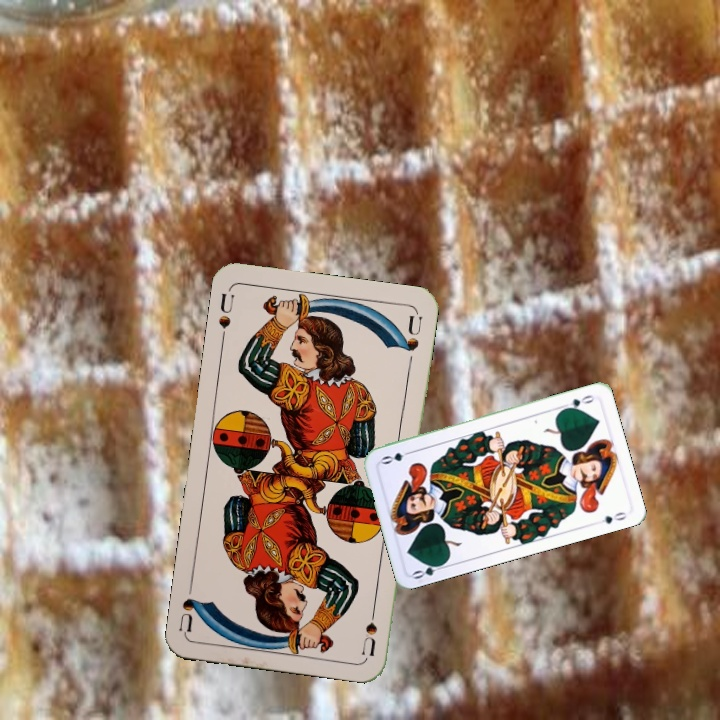GO: (409, 558, 449, 582), (557, 391, 597, 413)
SU: (357, 598, 380, 658), (214, 286, 237, 345)
